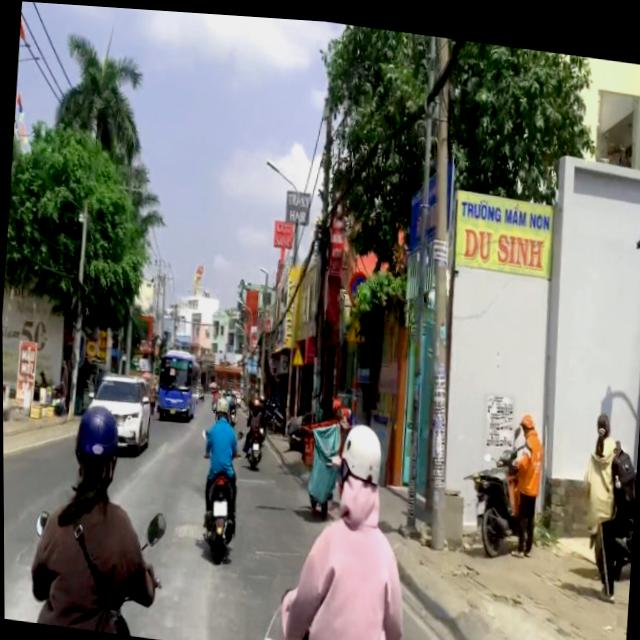Nhieu cho ngoat lien tiep ben trai: (347, 308, 367, 340)
